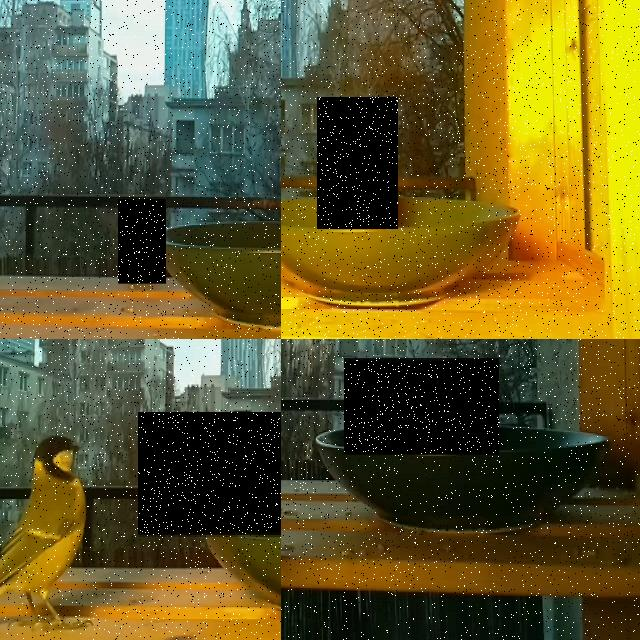Bogatka: (0, 435, 101, 639), (317, 97, 398, 229)
Modraszka: (118, 200, 166, 284)
Wrobel: (138, 412, 281, 536), (344, 358, 499, 454)
